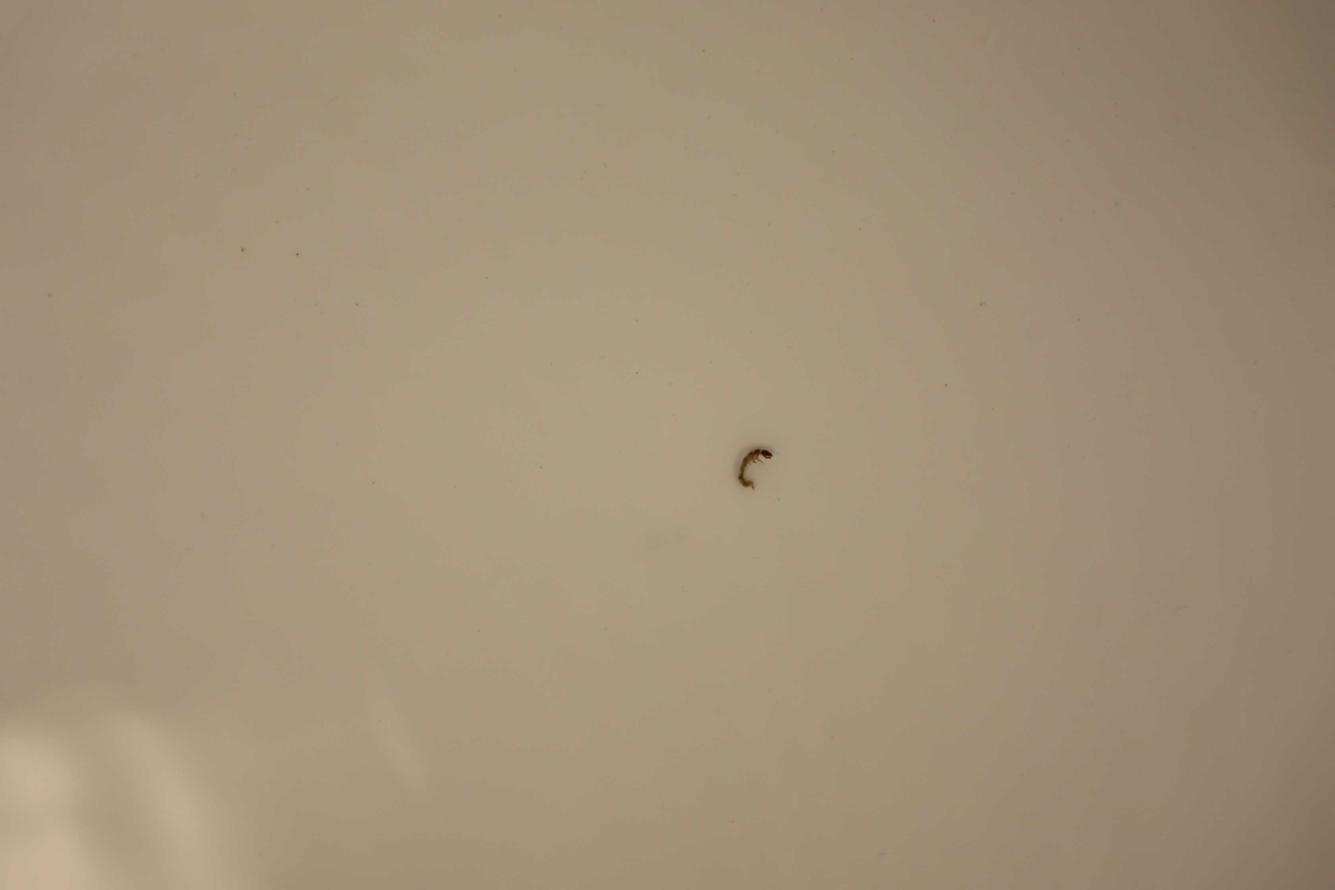Cadisfly: (733, 444, 779, 490)
